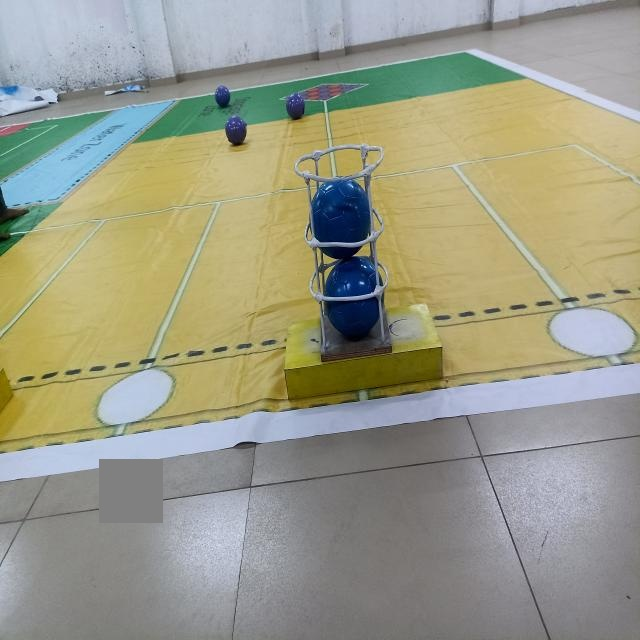blue_ball: (325, 256, 382, 338), (311, 179, 368, 255)
silo: (294, 143, 411, 389)
